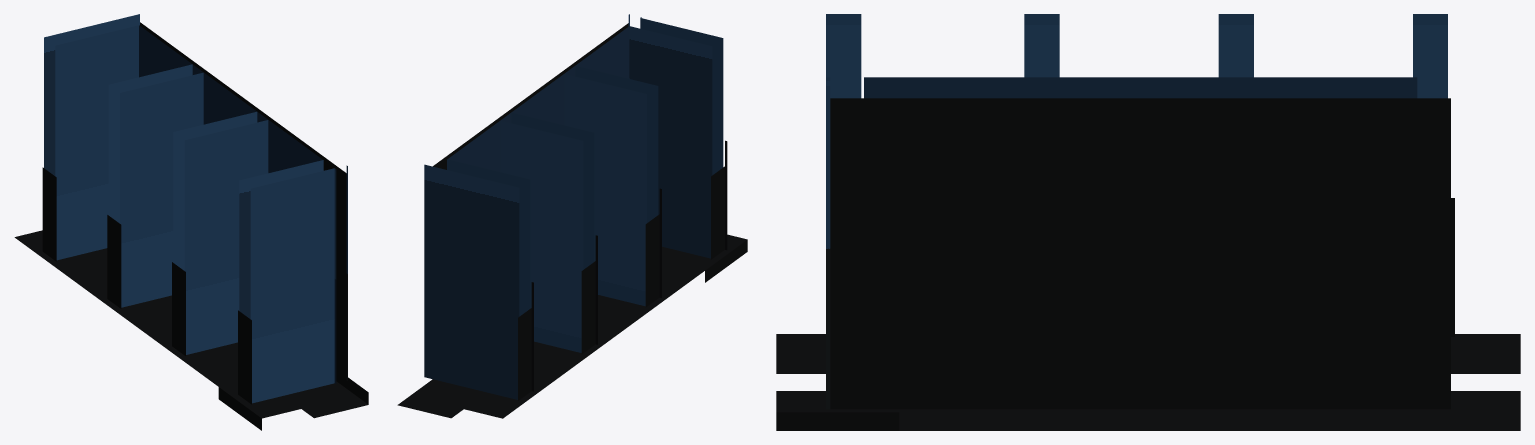
The picture shows the model from 3 angles, left to right: view 1: azimuth 30°, elevation 25°; view 2: azimuth 150°, elevation 25°; view 3: azimuth 270°, elevation 25°; orthographic projection. The views are drawn at different scales.
Bounding box in the file's own units: 0.4397 × 0.895 × 1.77.
